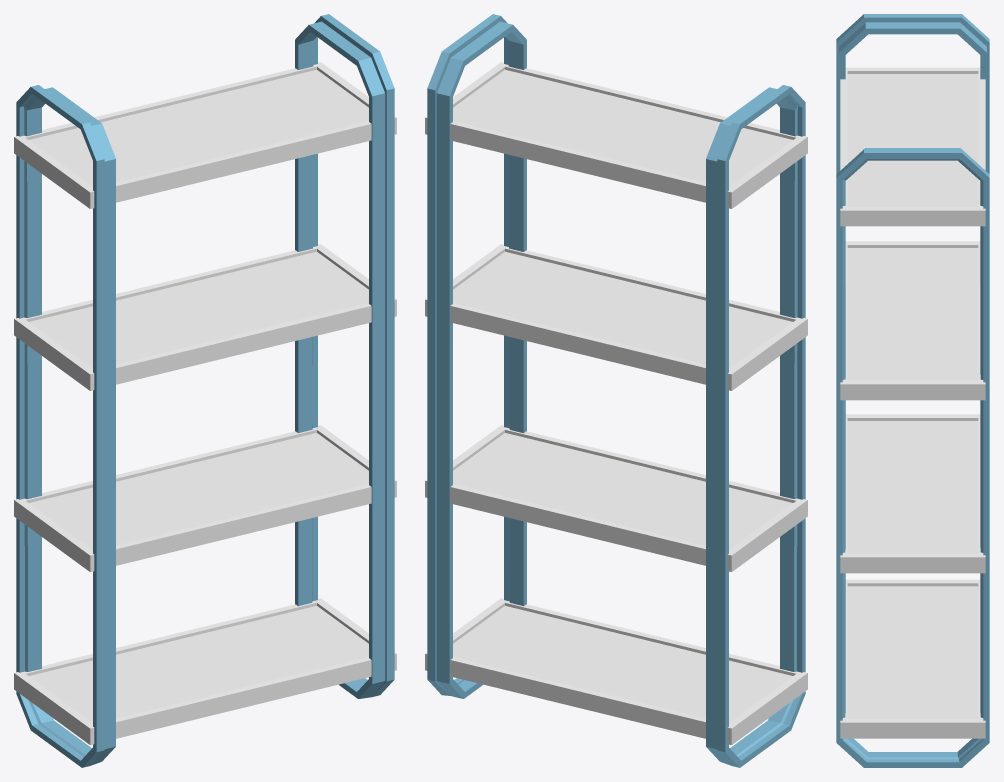
File: Props_Shelf.003.fbx
3 renders of one model, left to right at view 1: azimuth 30°, elevation 25°; view 2: azimuth 150°, elevation 25°; view 3: azimuth 270°, elevation 25°, orthographic. The views are drawn at different scales.
Visible parts, largest first — view 1: Props_Shelf.003; view 2: Props_Shelf.003; view 3: Props_Shelf.003.
Boxes of the visible parts, x1=… form: Props_Shelf.003: x1=14, y1=14, x2=396, y2=767; Props_Shelf.003: x1=425, y1=14, x2=807, y2=767; Props_Shelf.003: x1=836, y1=14, x2=989, y2=767.
Size of the model in its own units: 1.25 by 2.51 by 0.5676.
